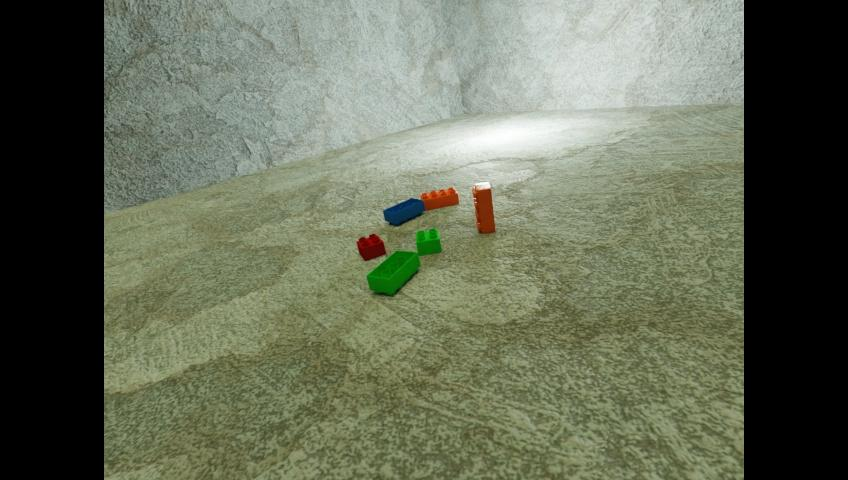2x2_green: (415, 228, 441, 255)
2x2_red: (356, 233, 385, 260)
4x2_blue: (383, 197, 425, 225)
4x2_green: (366, 249, 419, 294)
4x2_orange: (472, 181, 494, 233), (420, 186, 458, 210)
